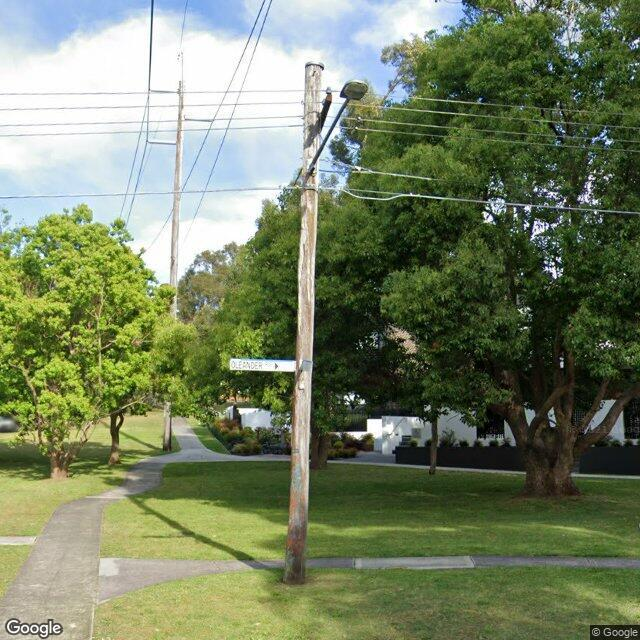HV-transmission: (146, 88, 212, 146)
crossarm: (302, 87, 332, 149)
streetlight: (308, 80, 369, 175)
timber-pole: (282, 62, 325, 586), (168, 80, 182, 322)
